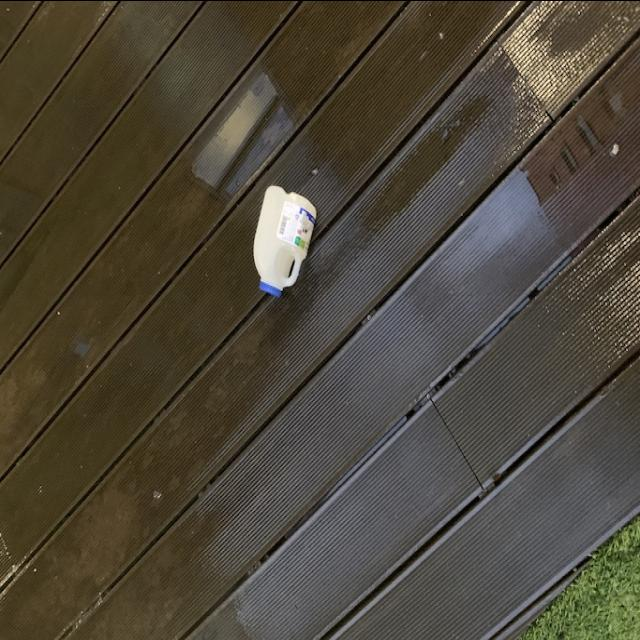litter: (253, 182, 319, 298)
